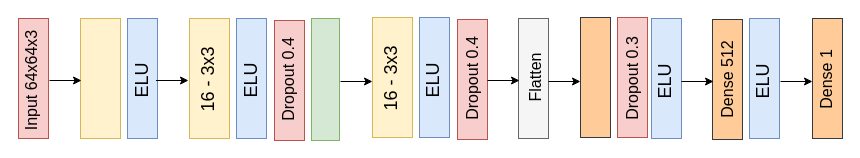
Some shapes in this 860 by 158 pixel diagram are drawn without their labels. Here are the shapes that lost their labels. From the top down, the centre of each, then its label:
At point (100, 78): "32 - 5x5".
At point (325, 79): "Max Pool 2x2".
At point (595, 77): "Dense 1024".
